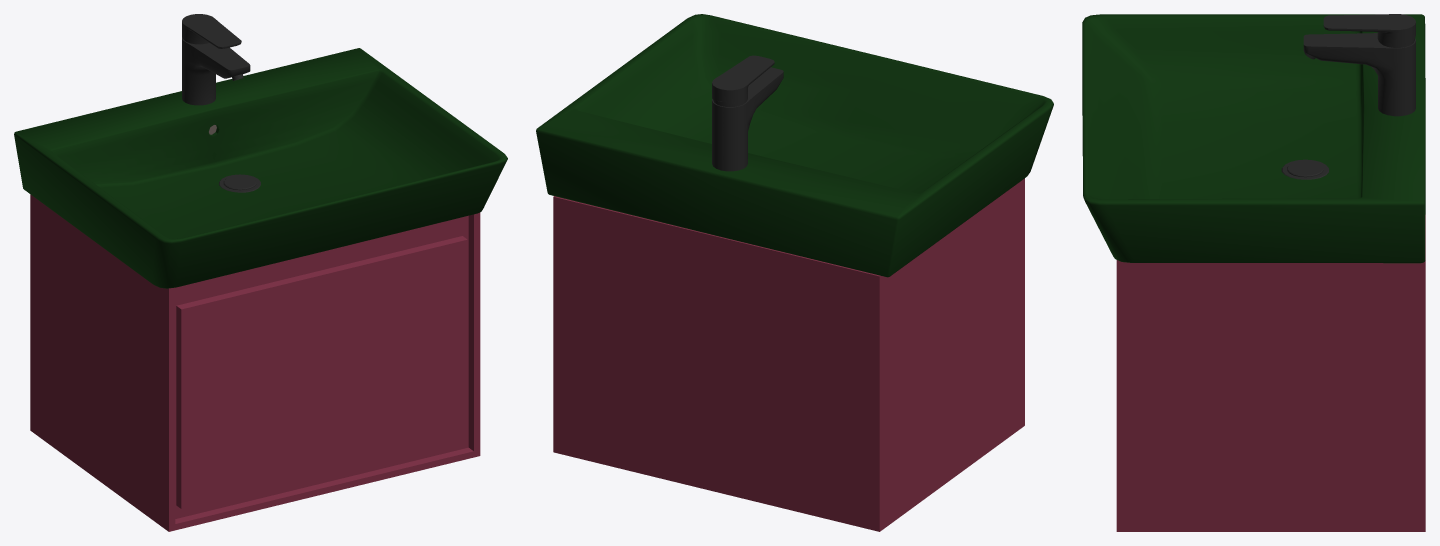
File: Umyvadlo_Connect_Air_IDEAL.FBX
3 views of the same model, side by side, from view 1: azimuth 30°, elevation 25°; view 2: azimuth 150°, elevation 25°; view 3: azimuth 270°, elevation 25° (orthographic). The views are drawn at different scales.
Visible parts, largest first — view 1: Umyvadlo_Connect_Air_IDEAL; view 2: Umyvadlo_Connect_Air_IDEAL; view 3: Umyvadlo_Connect_Air_IDEAL.
Part boxes in pixels (box(x1,y1,x2,y2)): Umyvadlo_Connect_Air_IDEAL: box(14, 14, 507, 531); Umyvadlo_Connect_Air_IDEAL: box(536, 14, 1053, 531); Umyvadlo_Connect_Air_IDEAL: box(1082, 14, 1425, 531).
Size of the model in its own units: 59.71 by 62.55 by 45.8.
